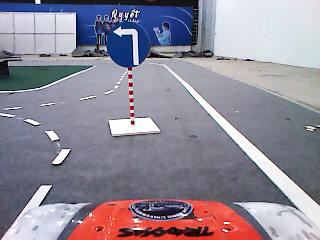turn: (105, 21, 152, 69)
